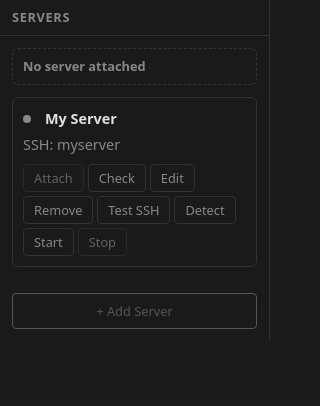
Test case: Start button shows start result
Expected: the element with test id "server-card-ssh-1" is shown, [12,97,257,267]
Click the button with test id "start-remote-ssh-1": point(48, 242) [23,228,74,256]
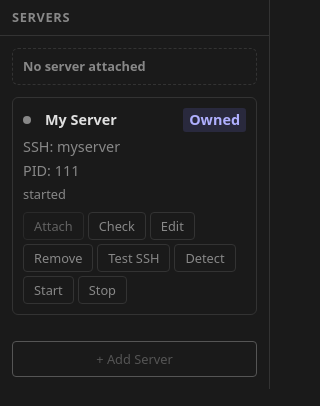
Expected: the text with test id "action-msg-ssh-1" reads "started", [23,185,66,203]
